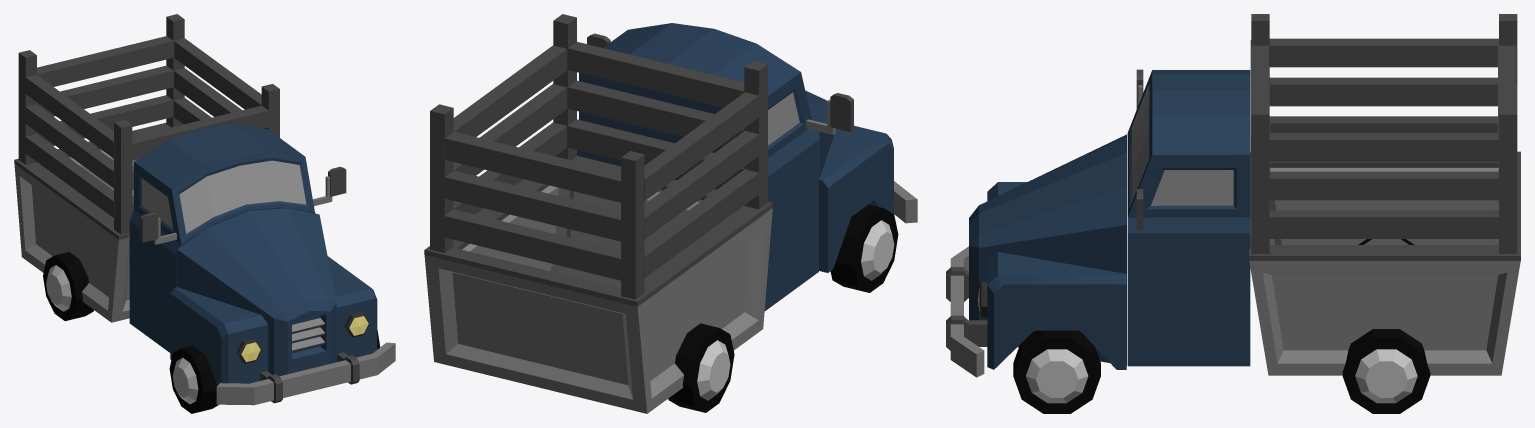
File: cart truck_2.FBX
3 views of the same model, side by side, from view 1: azimuth 30°, elevation 25°; view 2: azimuth 150°, elevation 25°; view 3: azimuth 270°, elevation 25° (orthographic). The views are drawn at different scales.
Visible parts, largest first — view 1: cart truck_2; view 2: cart truck_2; view 3: cart truck_2.
Boxes of the visible parts, x1=… form: cart truck_2: x1=14, y1=14, x2=395, y2=413; cart truck_2: x1=424, y1=14, x2=917, y2=413; cart truck_2: x1=946, y1=14, x2=1520, y2=413.
Size of the model in its own units: 2.33 by 2.46 by 4.38.
2 materials, 1 textured.
